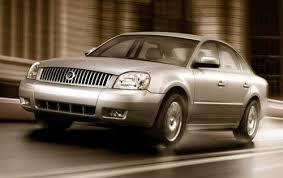Mercury: (63, 68, 80, 83)
